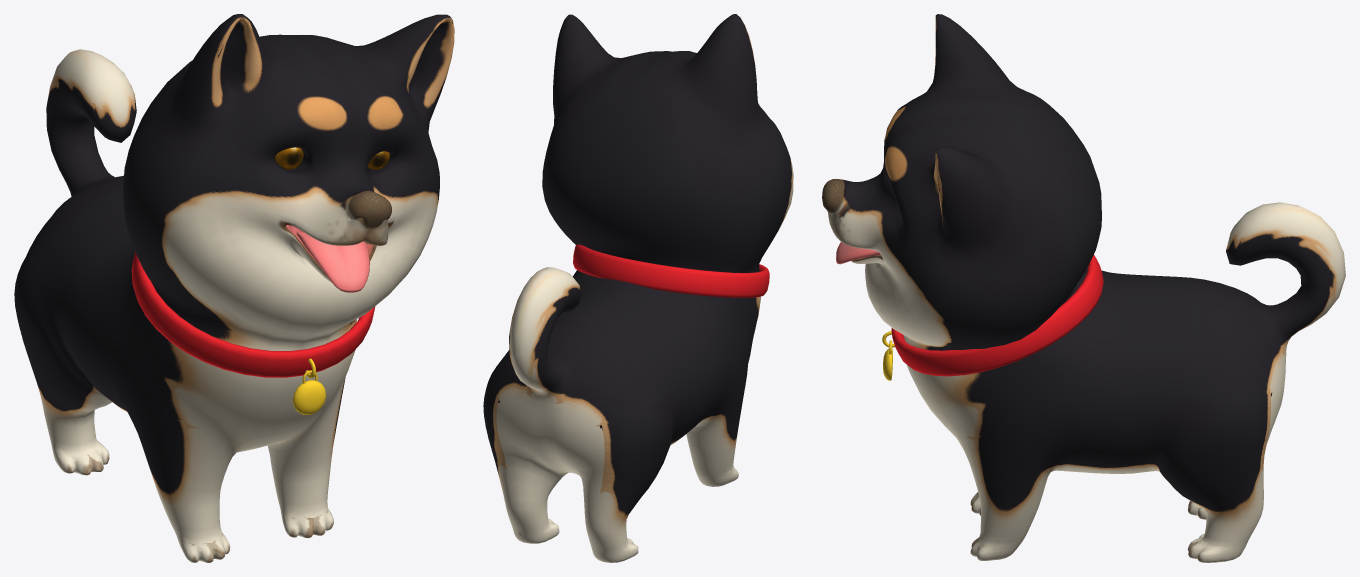
Rendered from kuroshiba.glb.
3 views of the same model, side by side, from view 1: azimuth 30°, elevation 25°; view 2: azimuth 150°, elevation 25°; view 3: azimuth 270°, elevation 25° (orthographic). The views are drawn at different scales.
Parts seen in each view (by area): view 1: body_Circle, collar_Circle.005; view 2: body_Circle, collar_Circle.005; view 3: body_Circle, collar_Circle.005.
Part boxes in pixels (x1,y1,x2,y2): body_Circle: [14, 14, 454, 562]; collar_Circle.005: [131, 251, 375, 414]; body_Circle: [483, 14, 793, 562]; collar_Circle.005: [573, 244, 769, 297]; body_Circle: [822, 14, 1345, 562]; collar_Circle.005: [882, 255, 1103, 380].
Size of the model in its own units: 0.2137 by 0.393 by 0.3724.
Materials: 4 (4 with a texture image).
